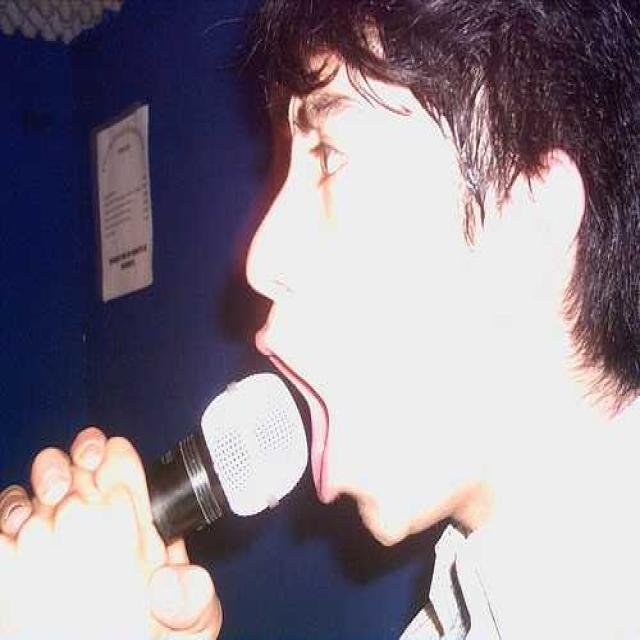microphone: (52, 327, 305, 592)
